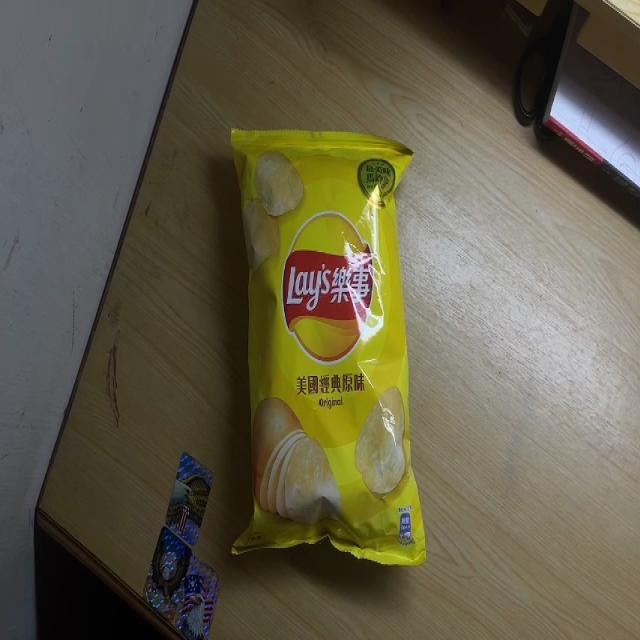Lay-s-original: (228, 126, 430, 565)
